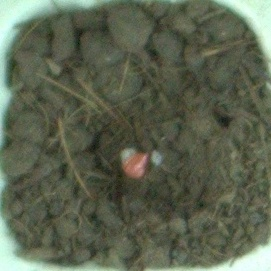pepper seed: (45, 60, 195, 239)
